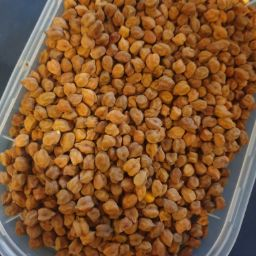Black Chickpeas: (142, 1, 255, 252), (65, 1, 170, 256), (1, 139, 213, 256), (12, 63, 251, 161), (52, 6, 256, 101)
